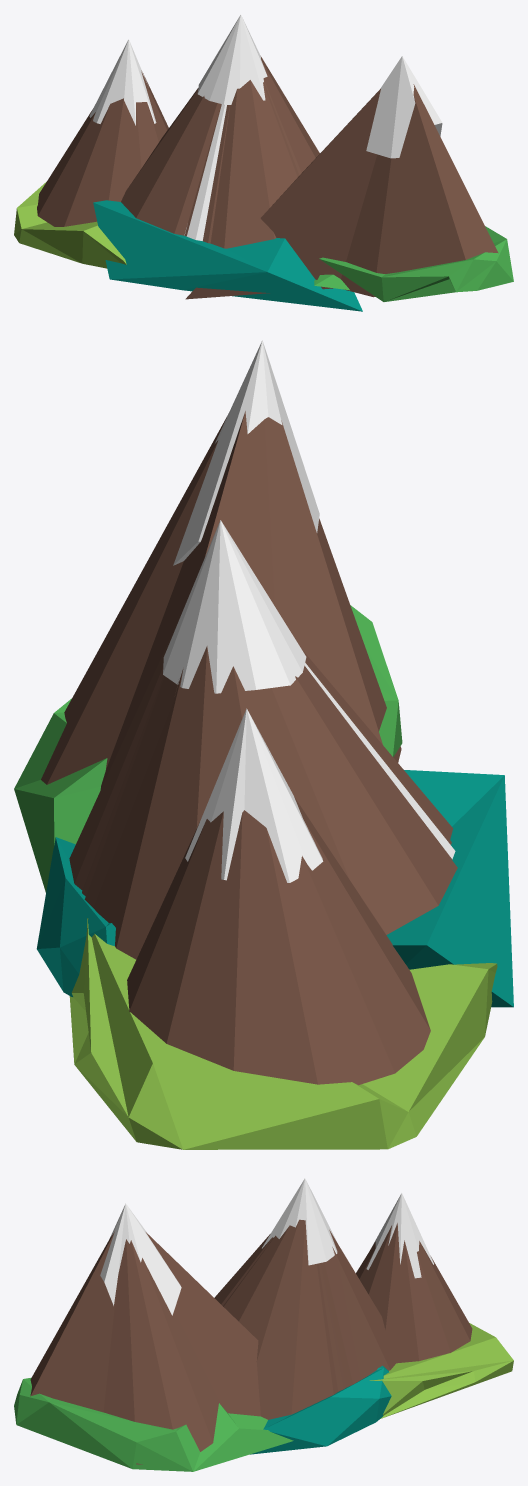
The model's file is montanas_lev5.glb.
The picture shows the model from 3 angles, top to bottom: view 1: azimuth 30°, elevation 25°; view 2: azimuth 150°, elevation 25°; view 3: azimuth 270°, elevation 25°; orthographic projection. The views are drawn at different scales.
Visible parts, largest first — view 1: montanas_lev5; view 2: montanas_lev5; view 3: montanas_lev5.
Boxes of the visible parts, x1,y1,x2,y2 form: montanas_lev5: (14, 14, 513, 311); montanas_lev5: (14, 340, 513, 1149); montanas_lev5: (14, 1178, 513, 1471).
Size of the model in its own units: 81.58 by 60.94 by 111.
